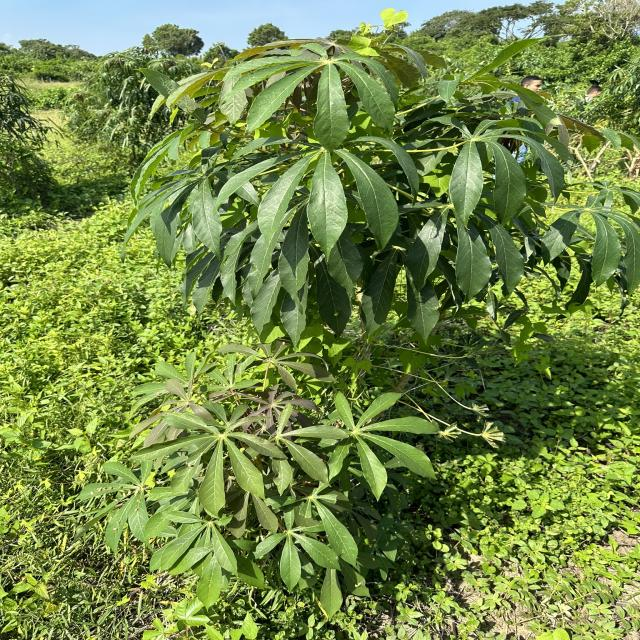Maleza: (3, 142, 124, 428), (478, 426, 640, 632), (450, 322, 625, 463), (0, 395, 81, 568), (0, 557, 122, 638), (54, 274, 179, 346)
Mosca: (131, 497, 146, 516), (308, 238, 325, 251), (89, 488, 120, 495), (328, 310, 341, 323), (110, 523, 119, 536), (314, 454, 325, 464), (520, 189, 529, 201)
